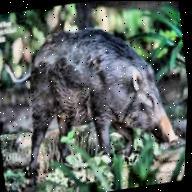boar: (0, 12, 187, 189)
